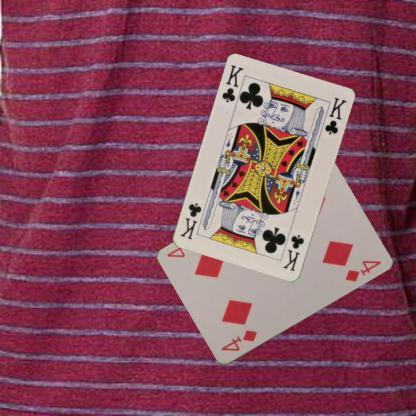4d: (218, 328, 258, 354)
Kc: (220, 63, 245, 104), (281, 232, 306, 272)
